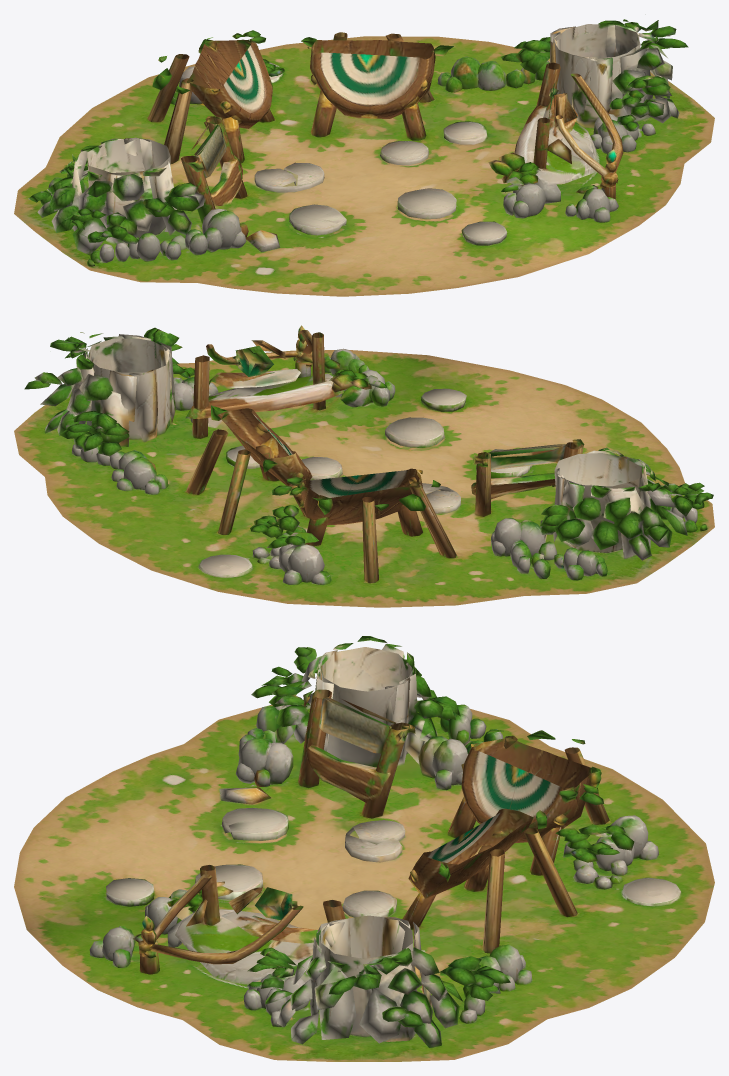
Rendered from arqueria_e1.glb.
The picture shows the model from 3 angles, top to bottom: view 1: azimuth 30°, elevation 25°; view 2: azimuth 150°, elevation 25°; view 3: azimuth 270°, elevation 25°; orthographic projection. The views are drawn at different scales.
Parts seen in each view (by area): view 1: arqueria_cuerpo; view 2: arqueria_cuerpo; view 3: arqueria_cuerpo.
Boxes of the visible parts, left/top/right/bottom form: arqueria_cuerpo: left=14, top=19, right=714, bottom=296; arqueria_cuerpo: left=14, top=325, right=714, bottom=607; arqueria_cuerpo: left=14, top=636, right=714, bottom=1061.
Bounding box in the file's own units: 1.42 × 0.1723 × 1.17.
Materials: 1 (1 with a texture image).
